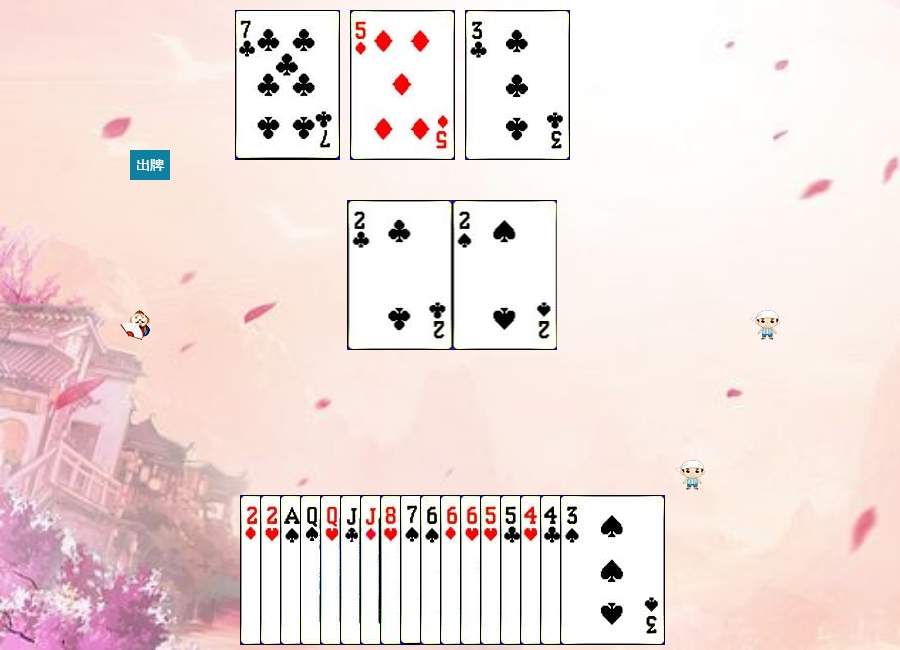11~1: (360, 495, 465, 645)
11~2: (340, 495, 445, 645)
12~3: (320, 495, 425, 645)
12~4: (300, 495, 405, 645)
14~4: (280, 495, 385, 645)
15~1: (240, 495, 345, 645)
15~2: (348, 200, 453, 350)
15~3: (260, 495, 365, 645)
15~4: (453, 200, 558, 350)
3~2: (465, 10, 570, 160)
3~4: (560, 495, 665, 645)
4~2: (540, 495, 645, 645)
4~3: (520, 495, 625, 645)
5~1: (350, 10, 455, 160)
5~2: (500, 495, 605, 645)
5~3: (480, 495, 585, 645)
6~1: (440, 495, 545, 645)
6~3: (460, 495, 565, 645)
6~4: (420, 495, 525, 645)
7~2: (235, 10, 340, 160)
7~4: (400, 495, 505, 645)
8~3: (380, 495, 485, 645)
